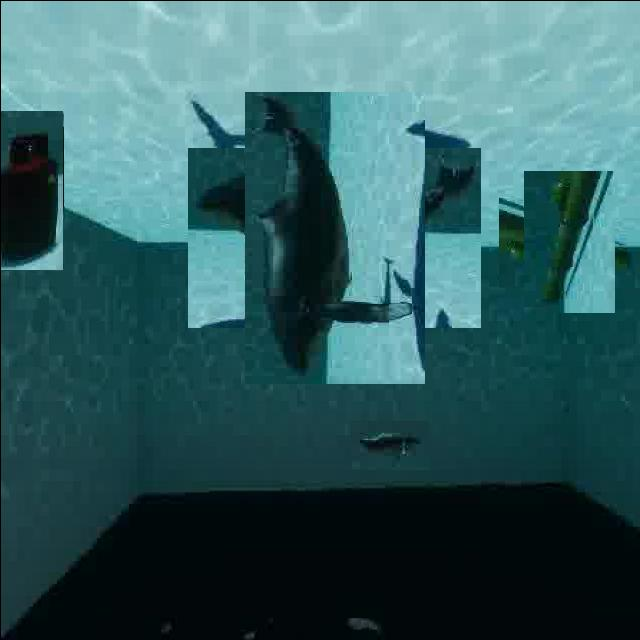Cylinder: (0, 110, 63, 270)
Pipe: (510, 182, 628, 300)
Whale: (215, 119, 452, 355), (350, 420, 429, 470)
